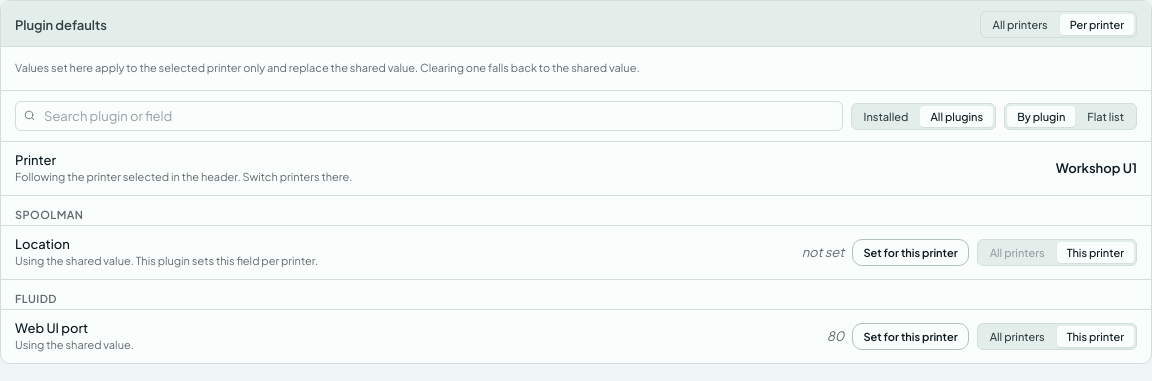
Test case: ScopedPluginDefaultsPane view division and installed filter › divides by the whole fleet: one printer's own value moves a shared field to Per printer for everyone
Expected: the text "Web UI port" is shown, [15,320,88,336]
Click the button "All printers" in the row of "Plugin defaults".
click(1020, 24)  # box [982,14,1058,35]
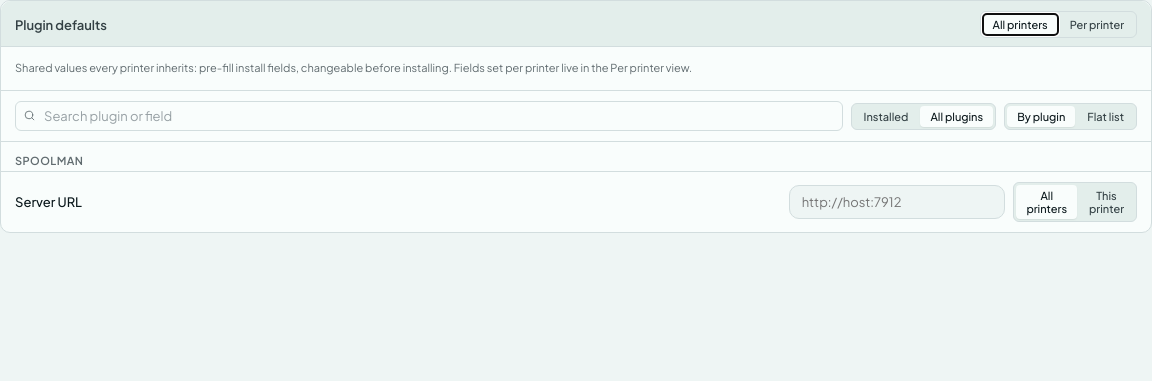
Expected: the text "Web UI port" is gone
